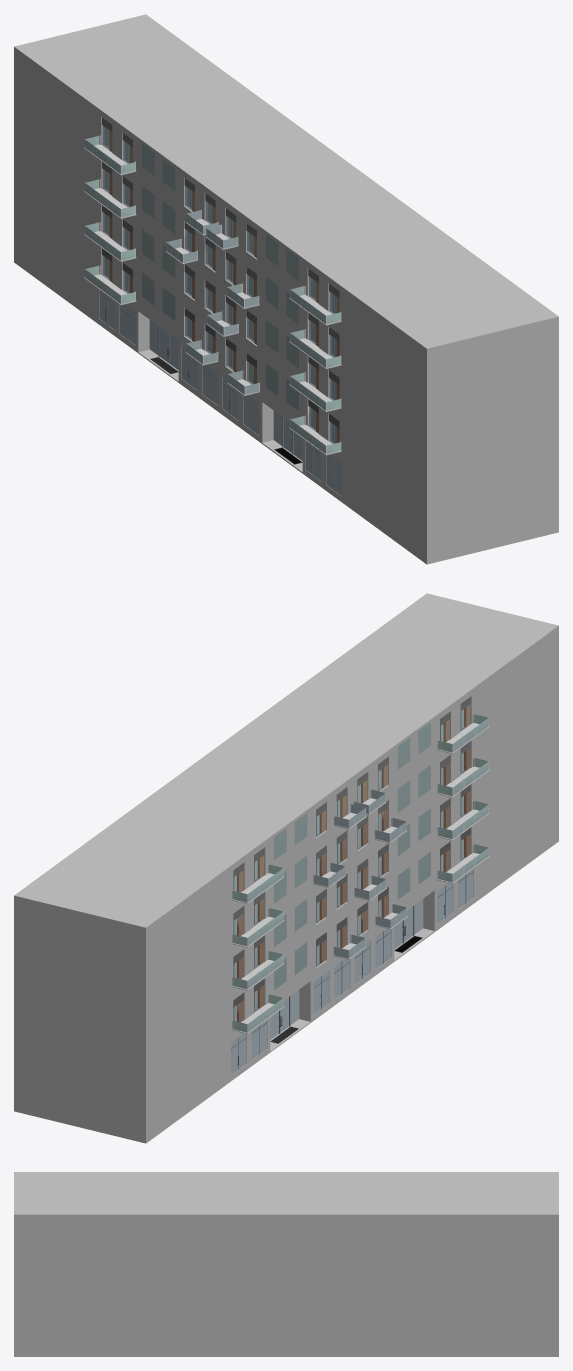
The model's file is Extension.fbx.
3 views of the same model, one above another, from view 1: azimuth 30°, elevation 25°; view 2: azimuth 150°, elevation 25°; view 3: azimuth 270°, elevation 25° (orthographic). The views are drawn at different scales.
Parts seen in each view (by area): view 1: Extension; view 2: Extension; view 3: Extension.
Boxes of the visible parts, x1=… form: Extension: x1=14, y1=14, x2=558, y2=564; Extension: x1=14, y1=593, x2=558, y2=1143; Extension: x1=14, y1=1172, x2=558, y2=1356.
Bounding box in the file's own units: 27.38 × 132 × 38.18.
